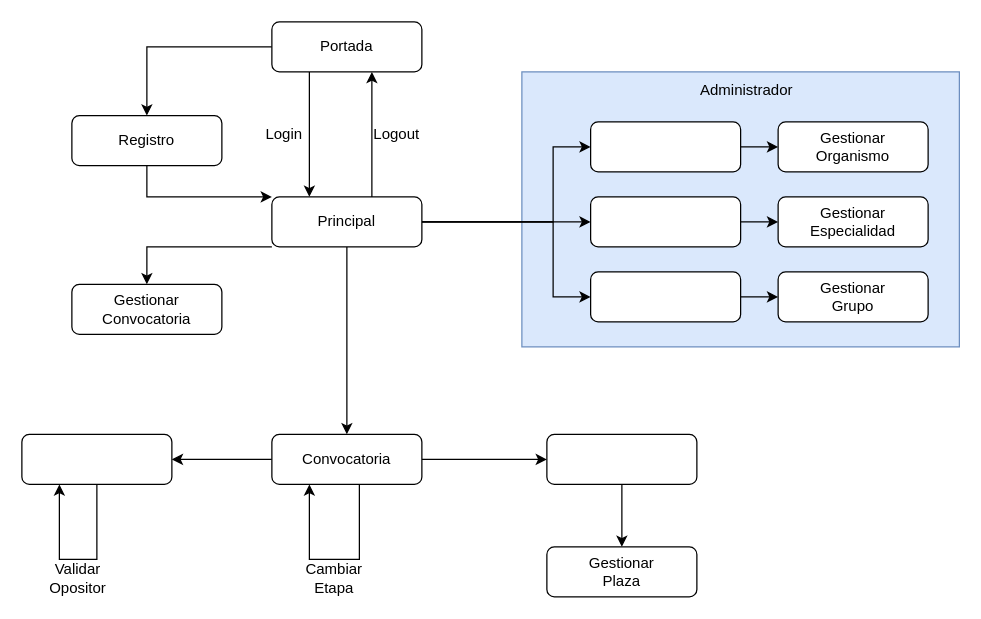
This 981x619 diagram has some shape labels left out. Each missing label, with the centre of its shape:
Listado Especialidades: point 665,221
Listado Grupos: point 665,296
Listado Opositores: point 96,458
Listado Organismos: point 665,146
Listado Plazas: point 621,458
